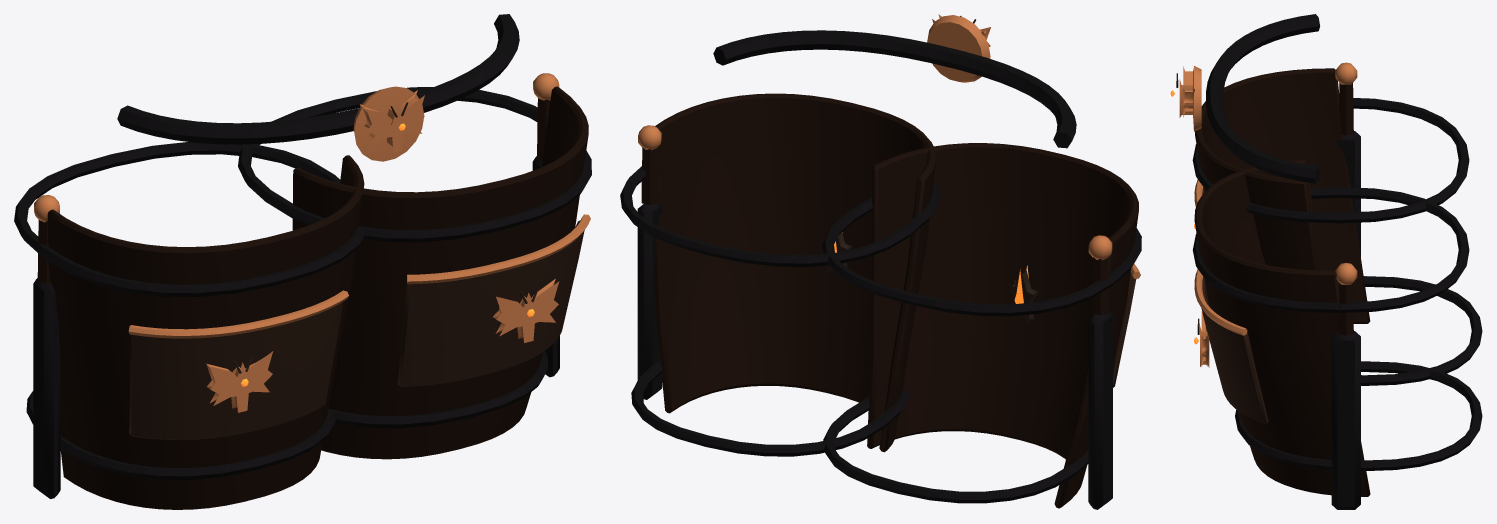
File: asc_elder_wyrm_talon_leggings.glb
3 renders of one model, left to right at view 1: azimuth 30°, elevation 25°; view 2: azimuth 150°, elevation 25°; view 3: azimuth 270°, elevation 25°, orthographic. The views are drawn at different scales.
Parts seen in each view (by area): view 1: AT_thigh_R, AT_thigh_L, asc_elder_wyrm_talon_leggings; view 2: AT_thigh_L, AT_thigh_R, asc_elder_wyrm_talon_leggings; view 3: AT_thigh_L, AT_thigh_R, asc_elder_wyrm_talon_leggings.
Boxes of the visible parts, x1,y1,x2,y2 form: AT_thigh_R: [14, 142, 364, 509]; AT_thigh_L: [238, 73, 591, 459]; asc_elder_wyrm_talon_leggings: [117, 14, 519, 161]; AT_thigh_L: [620, 93, 939, 456]; AT_thigh_R: [822, 143, 1141, 509]; asc_elder_wyrm_talon_leggings: [713, 14, 1076, 324]; AT_thigh_L: [1192, 159, 1482, 509]; AT_thigh_R: [1192, 62, 1482, 385]; asc_elder_wyrm_talon_leggings: [1170, 14, 1320, 183].
Bounding box in the file's own units: 0.5071 × 0.3851 × 0.319.
